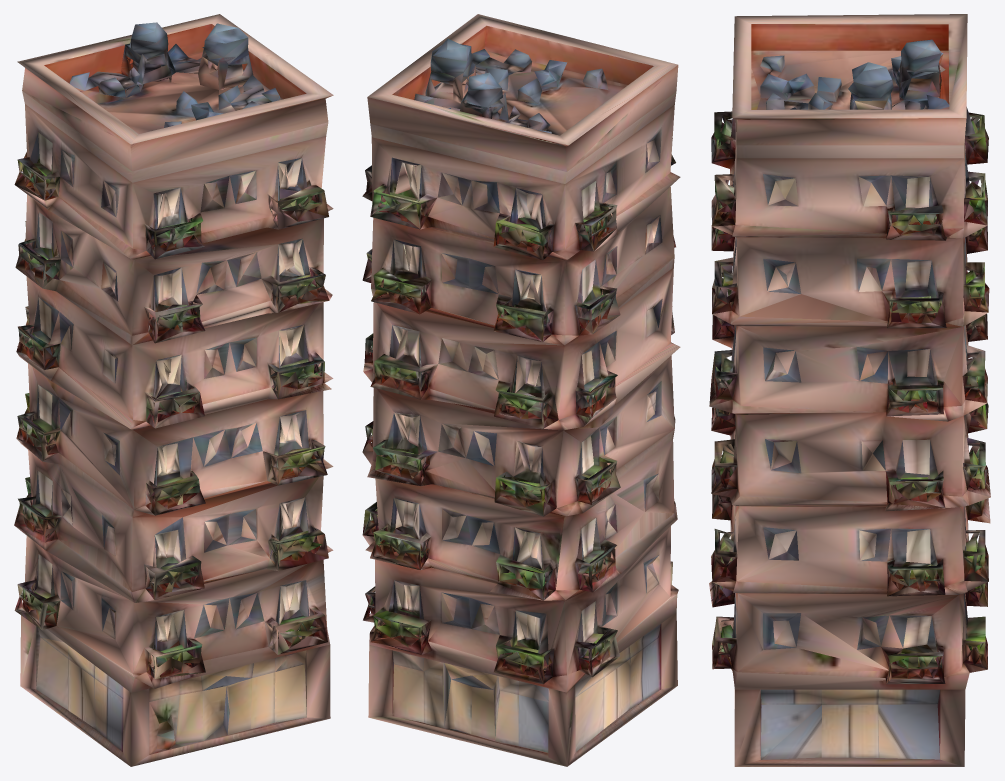
File: menara-5.glb
3 renders of one model, left to right at view 1: azimuth 30°, elevation 25°; view 2: azimuth 150°, elevation 25°; view 3: azimuth 270°, elevation 25°, orthographic. The views are drawn at different scales.
Visible parts, largest first — view 1: node_0; view 2: node_0; view 3: node_0.
Part boxes in pixels (x1,y1,x2,y2): node_0: [14, 14, 333, 766]; node_0: [362, 14, 680, 766]; node_0: [709, 14, 990, 766].
Bounding box in the file's own units: 0.4106 × 1.1 × 0.4114.
1 material, 1 textured.
